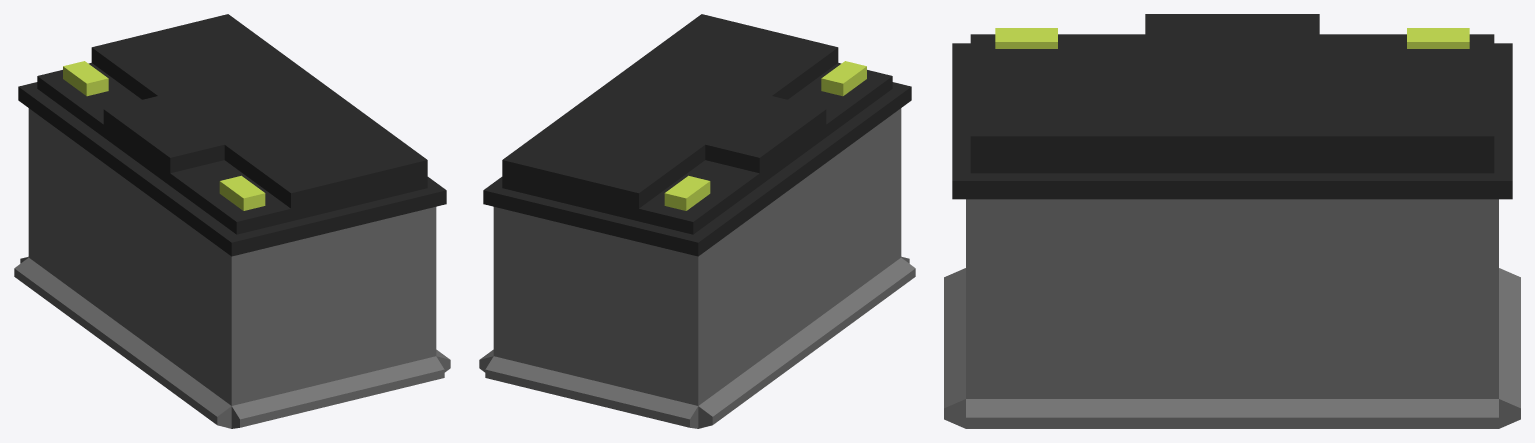
Rendered from Battery.glb.
The picture shows the model from 3 angles, left to right: view 1: azimuth 30°, elevation 25°; view 2: azimuth 150°, elevation 25°; view 3: azimuth 270°, elevation 25°; orthographic projection. The views are drawn at different scales.
Visible parts, largest first — view 1: Battery; view 2: Battery; view 3: Battery.
Part boxes in pixels (bbox=[...]): Battery: bbox=[14, 14, 450, 428]; Battery: bbox=[479, 14, 915, 428]; Battery: bbox=[944, 14, 1520, 428].
Size of the model in its own units: 0.5177 by 0.465 by 0.8435.
